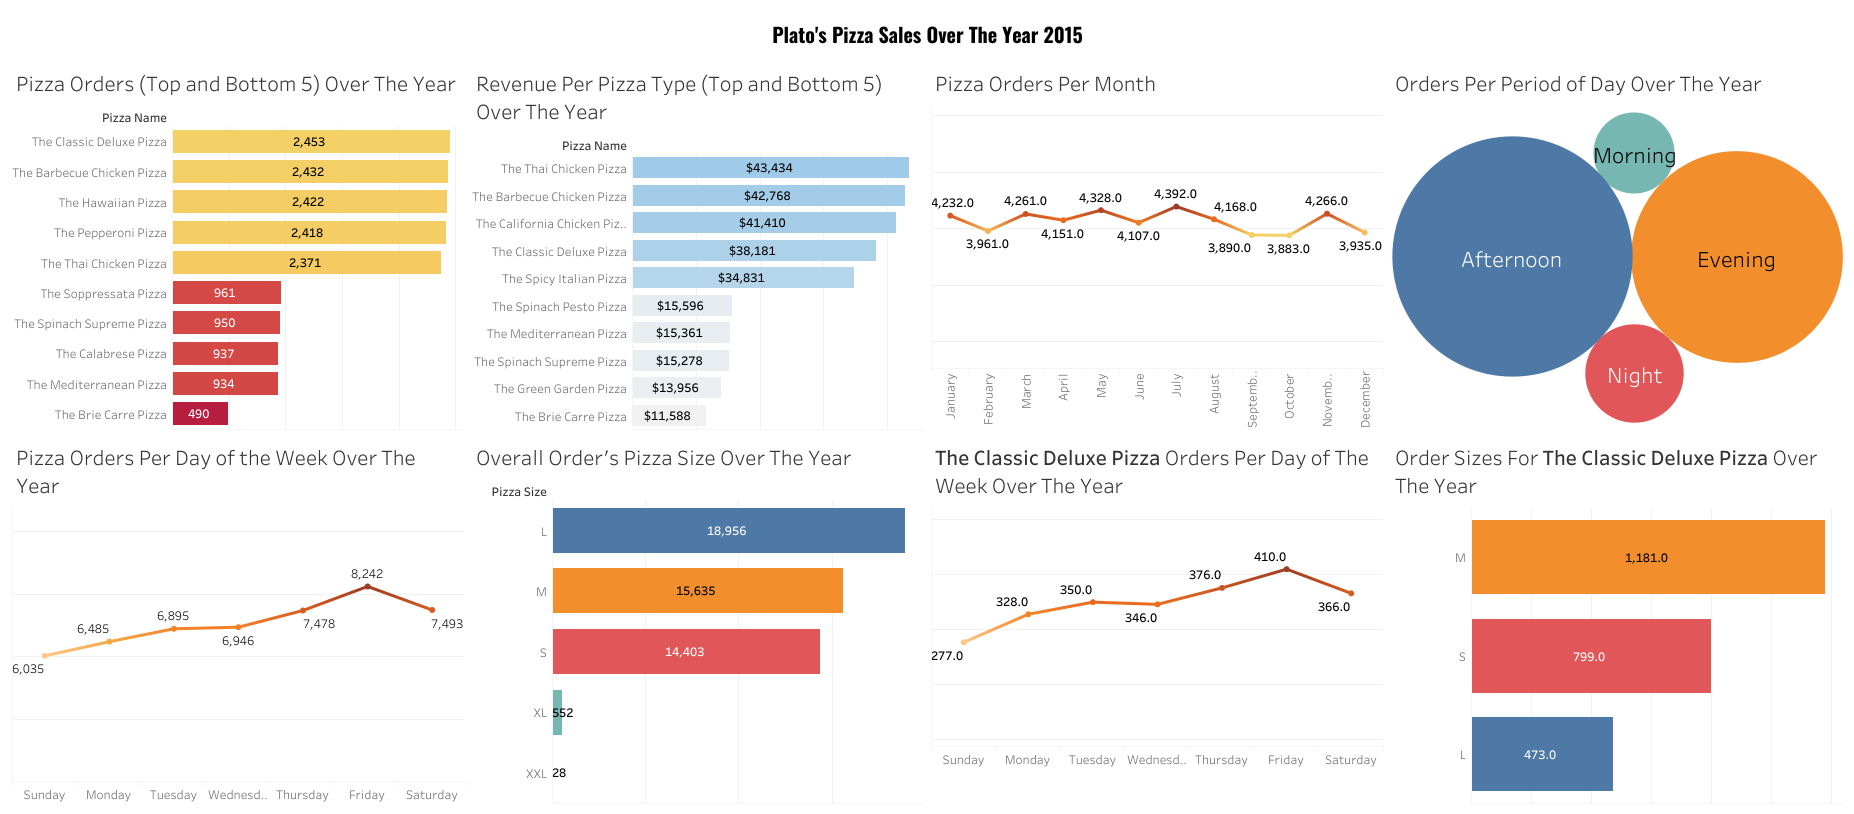

What the dashboard file says about the page in this screenshot:
{"tool":"tableau","page":{"name":"Dashboard 1","canvas":[1000,1000],"units":"permille","ordinal":0},"visuals":[{"type":"worksheet","title":"Pizza Popularity","mark":"Automatic","rows":["pizza_name"],"cols":["quantity"],"box":[4.7,8.8,247.6,491.1]},{"type":"worksheet","title":"Revenue Per Pizza Type","mark":"Automatic","rows":["pizza_name"],"cols":["total_price"],"box":[252.3,8.8,247.4,491.1]},{"type":"worksheet","title":"The Classic Deluxe Pizza Per Month","mark":"Bar","rows":["quantity"],"cols":["pizza_name","new_order_date"],"box":[499.7,8.8,247.8,491.1]},{"type":"worksheet","title":"Orders Per Day Period","mark":"Circle","box":[747.5,8.8,247.8,491.1]},{"type":"worksheet","title":"Pizza Per Day of the Week","mark":"Automatic","rows":["quantity"],"cols":["new_order_date"],"box":[4.7,500,247.6,491.2]},{"type":"worksheet","title":"Pizza Size","mark":"Automatic","rows":["pizza_size"],"cols":["quantity"],"box":[252.3,500,247.6,491.2]},{"type":"worksheet","title":"The Classic Deluxe Pizza Per Day of The Week","mark":"Automatic","rows":["quantity"],"cols":["new_order_date"],"box":[500,500,247.7,491.2]},{"type":"worksheet","title":"Pizza Size For The Classic Deluxe Pizza","mark":"Automatic","rows":["pizza_size"],"cols":["quantity"],"box":[747.6,500,247.7,491.2]}]}

Visuals, with their boxes on the dashboard's canvas, which has no fixed pixel size, in thousandths of its width and height (x1, y1, x2, y2). These are canvas units, not pixel positions in the 1854x814 screenshot, which may show the page scaled, cropped or inside an application window:
"Pizza Popularity" worksheet: pyautogui.locateOnScreen(5, 9, 252, 500)
"Revenue Per Pizza Type" worksheet: pyautogui.locateOnScreen(252, 9, 500, 500)
"The Classic Deluxe Pizza Per Month" worksheet (Bar marks): pyautogui.locateOnScreen(500, 9, 748, 500)
"Orders Per Day Period" worksheet (Circle marks): pyautogui.locateOnScreen(748, 9, 995, 500)
"Pizza Per Day of the Week" worksheet: pyautogui.locateOnScreen(5, 500, 252, 991)
"Pizza Size" worksheet: pyautogui.locateOnScreen(252, 500, 500, 991)
"The Classic Deluxe Pizza Per Day of The Week" worksheet: pyautogui.locateOnScreen(500, 500, 748, 991)
"Pizza Size For The Classic Deluxe Pizza" worksheet: pyautogui.locateOnScreen(748, 500, 995, 991)
